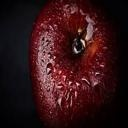apple: (29, 1, 121, 128)
